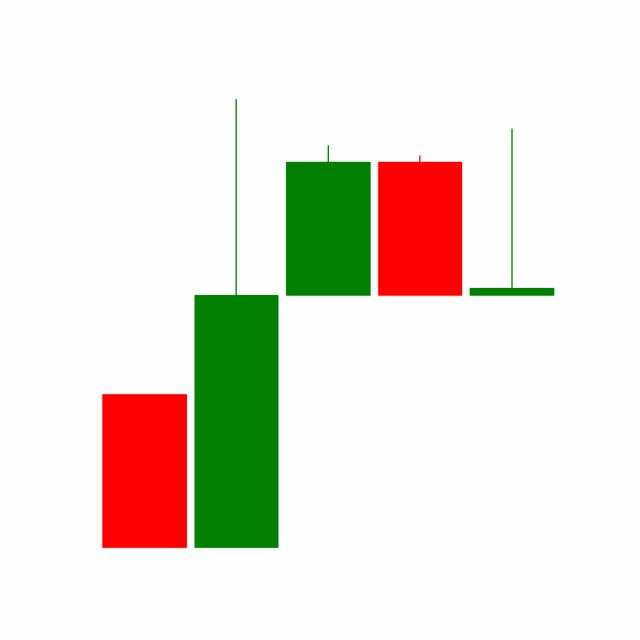Marubozu: (373, 154, 467, 297)
